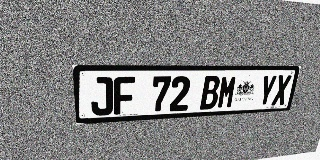2: (169, 76, 191, 111)
7: (150, 76, 171, 113)
B: (200, 76, 221, 110)
F: (114, 77, 135, 115)
J: (90, 77, 113, 116)
M: (217, 75, 238, 109)
X: (271, 75, 292, 106)
Y: (257, 75, 278, 106)
